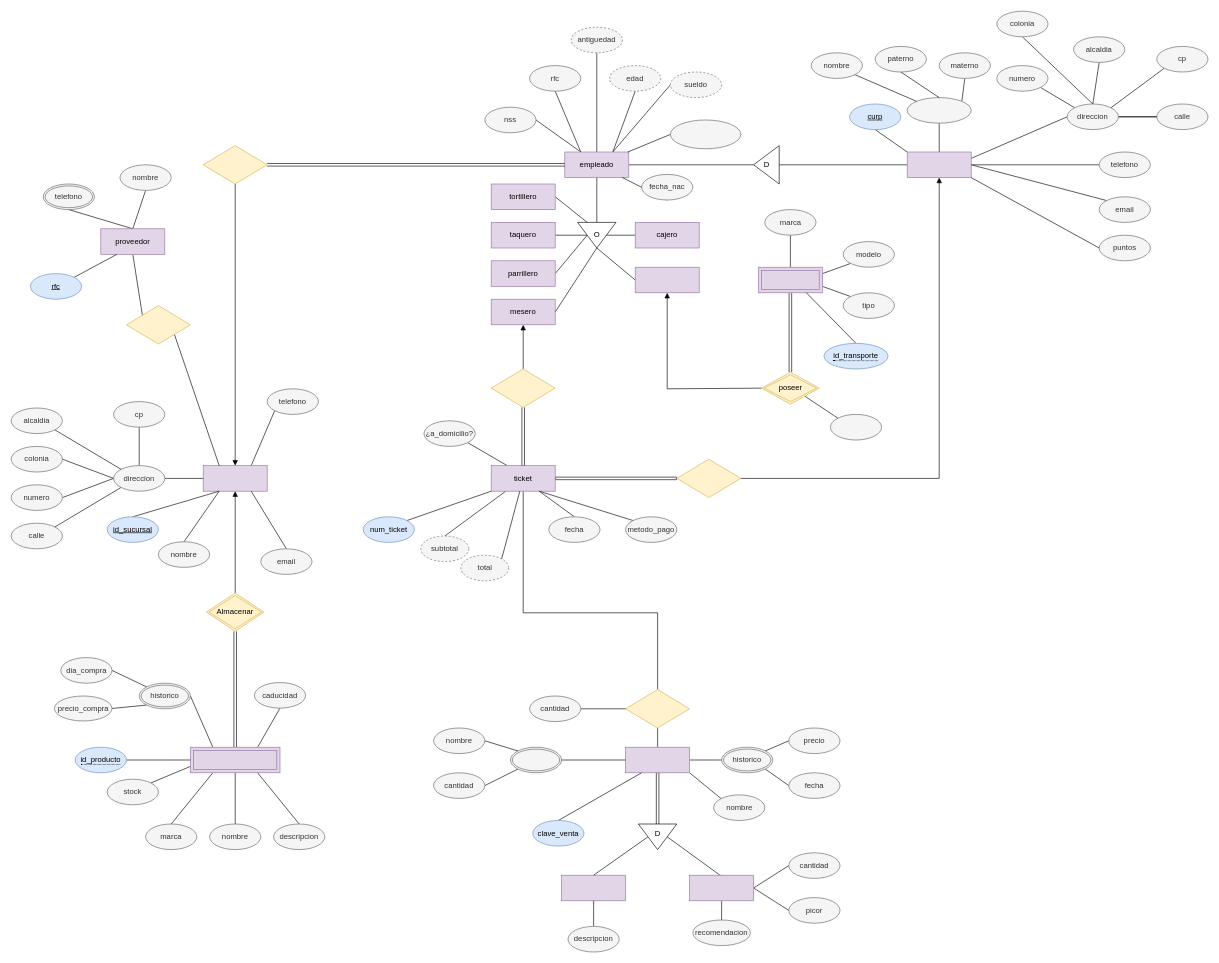
Image size: 1219x963. Some labels were removed from this diagram. The shapes that lost their labels are listed below. From the top down, each one's centre as x and y in pixels, then its label:
At [939,110]: "nombre_completo".
At [705,134]: "fecha_contratacion".
At [235,164]: "trabajar".
At [939,164]: "cliente".
At [667,280]: "repartidor".
At [790,280]: "transporte".
At [158,324]: "surtir".
At [523,387]: "atiende".
At [856,427]: "licencia".
At [235,478]: "sucursal".
At [708,478]: "pagar".
At [657,708]: "registrar".
At [235,760]: "productos_inventario".
At [536,760]: "ingrediente".
At [657,760]: "productos_venta".
At [593,888]: "comida".
At [721,888]: "salsas".
